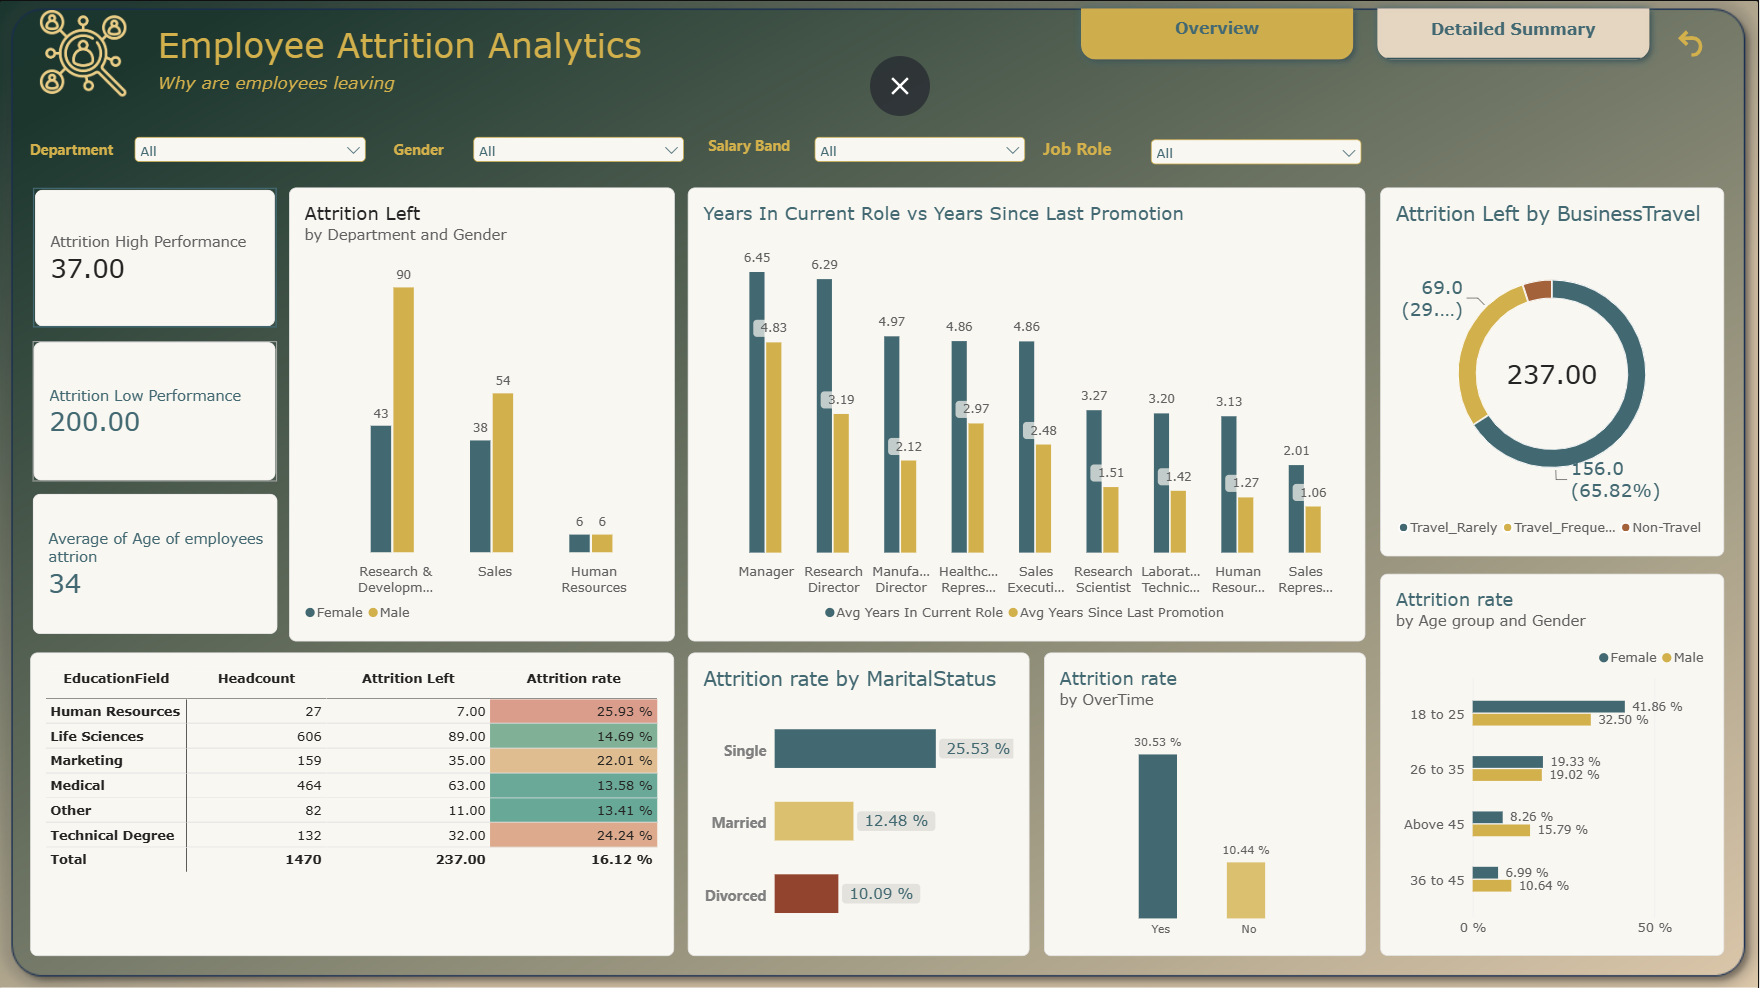

What the dashboard file says about the page in this screenshot:
{"tool":"powerbi","page":{"name":"Detailed Summary","canvas":[1920,1080],"ordinal":1},"visuals":[{"type":"group","id":"g1","title":"Group 1","box":[173.7,25.3,586.3,79.6],"z":0},{"type":"slicer","fields":{"Values":["HR_empl.JobRole"]},"box":[1251.5,147.8,239.2,33],"z":1},{"type":"slicer","fields":{"Values":["HR_empl.Salary band"]},"box":[885.1,144.7,239.2,39.2],"z":2},{"type":"slicer","fields":{"Values":["HR_empl.Gender"]},"box":[512.3,144.2,239.2,40.2],"z":3},{"type":"actionButton","box":[1809.7,16.3,72.4,63.3],"z":4},{"type":"donutChart","fields":{"Category":["HR_empl.BusinessTravel"],"Y":["HR_empl.Attrition Left"]},"box":[1507.4,204.5,375,402.3],"z":5},{"type":"clusteredBarChart","fields":{"Category":["HR_empl.MaritalStatus"],"Y":["HR_empl.Attrition rate"]},"box":[751,711.2,372.8,331.2],"z":6},{"type":"pivotTable","fields":{"Rows":["HR_empl.EducationField"],"Values":["HR_empl.Headcount","HR_empl.Attrition Left","HR_empl.Attrition rate"]},"box":[34.6,711.7,702.6,331.3],"z":7},{"type":"slicer","fields":{"Values":["HR_empl.Department"]},"box":[142.6,144.2,261.9,40.2],"z":8},{"type":"clusteredBarChart","fields":{"Category":["HR_empl.Age group"],"Series":["HR_empl.Gender"],"Y":["HR_empl.Attrition rate"]},"box":[1507.2,626.2,375,416.8],"z":9},{"type":"image","box":[29,10.9,126.7,94.1],"z":11},{"type":"textbox","box":[1139.1,148,97.7,32.6],"z":12},{"type":"textbox","box":[766.3,147.8,104.1,33],"z":13},{"type":"textbox","box":[419.2,151.4,78.4,25.8],"z":14},{"type":"textbox","box":[29.9,151.4,97.9,25.8],"z":15},{"type":"lineClusteredColumnComboChart","title":"Years In Current Role vs Years Since Last Promotion","fields":{"Category":["HR_empl.JobRole"],"Y":["Avg(HR_empl.YearsInCurrentRole)","Avg(HR_empl.YearsSinceLastPromotion)"]},"box":[751.8,203.9,739,495.1],"z":16},{"type":"clusteredColumnChart","fields":{"Category":["HR_empl.OverTime"],"Y":["HR_empl.Attrition rate"]},"box":[1139.5,711.7,351.3,331.3],"z":17},{"type":"cardVisual","fields":{"Data":["HR_empl.Attrition High Performance"]},"box":[36.2,204.5,266,153.8],"z":18},{"type":"cardVisual","title":"Average of Age of employees attrion","fields":{"Data":["Avg(HR_empl.Age)"]},"box":[36.2,539.3,267.8,153],"z":19},{"type":"cardVisual","fields":{"Data":["HR_empl.Attrition Low Performance1"]},"box":[36.2,372.3,266,153],"z":20},{"type":"clusteredColumnChart","fields":{"Category":["HR_empl.Department"],"Series":["HR_empl.Gender"],"Y":["HR_empl.Attrition Left"]},"box":[316.7,203.9,420.5,495.1],"z":21},{"type":"pageNavigator","box":[1170.9,0,638.8,74.2],"z":23},{"type":"textbox","box":[173.7,25.3,586.1,63.1],"z":1000,"group":"g1"},{"type":"textbox","box":[173.7,77.9,379,25.2],"z":2000,"group":"g1"}]}

Visuals, with their boxes in screenshot pixels (x1, y1, x2, y2), scaled from the page's 1920x1080 canvas onto the 1760x988 screenshot:
"Group 1" group: l=159, t=23, r=697, b=96
slicer - HR_empl.JobRole: l=1147, t=135, r=1366, b=165
slicer - HR_empl.Salary band: l=811, t=132, r=1031, b=168
slicer - HR_empl.Gender: l=470, t=132, r=689, b=169
actionButton: l=1659, t=15, r=1725, b=73
donutChart - HR_empl.BusinessTravel x HR_empl.Attrition Left: l=1382, t=187, r=1726, b=555
clusteredBarChart - HR_empl.MaritalStatus x HR_empl.Attrition rate: l=688, t=651, r=1030, b=954
pivotTable - HR_empl.EducationField x HR_empl.Headcount: l=32, t=651, r=676, b=954
slicer - HR_empl.Department: l=131, t=132, r=371, b=169
clusteredBarChart - HR_empl.Age group x HR_empl.Gender: l=1382, t=573, r=1725, b=954
image: l=27, t=10, r=143, b=96
textbox: l=1044, t=135, r=1134, b=165
textbox: l=702, t=135, r=798, b=165
textbox: l=384, t=139, r=456, b=162
textbox: l=27, t=139, r=117, b=162
"Years In Current Role vs Years Since Last Promotion" lineClusteredColumnComboChart: l=689, t=187, r=1367, b=639
clusteredColumnChart - HR_empl.OverTime x HR_empl.Attrition rate: l=1045, t=651, r=1367, b=954
cardVisual - HR_empl.Attrition High Performance: l=33, t=187, r=277, b=328
"Average of Age of employees attrion" cardVisual: l=33, t=493, r=279, b=633
cardVisual - HR_empl.Attrition Low Performance1: l=33, t=341, r=277, b=481
clusteredColumnChart - HR_empl.Department x HR_empl.Gender: l=290, t=187, r=676, b=639
pageNavigator: l=1073, t=0, r=1659, b=68
textbox: l=159, t=23, r=696, b=81
textbox: l=159, t=71, r=507, b=94
